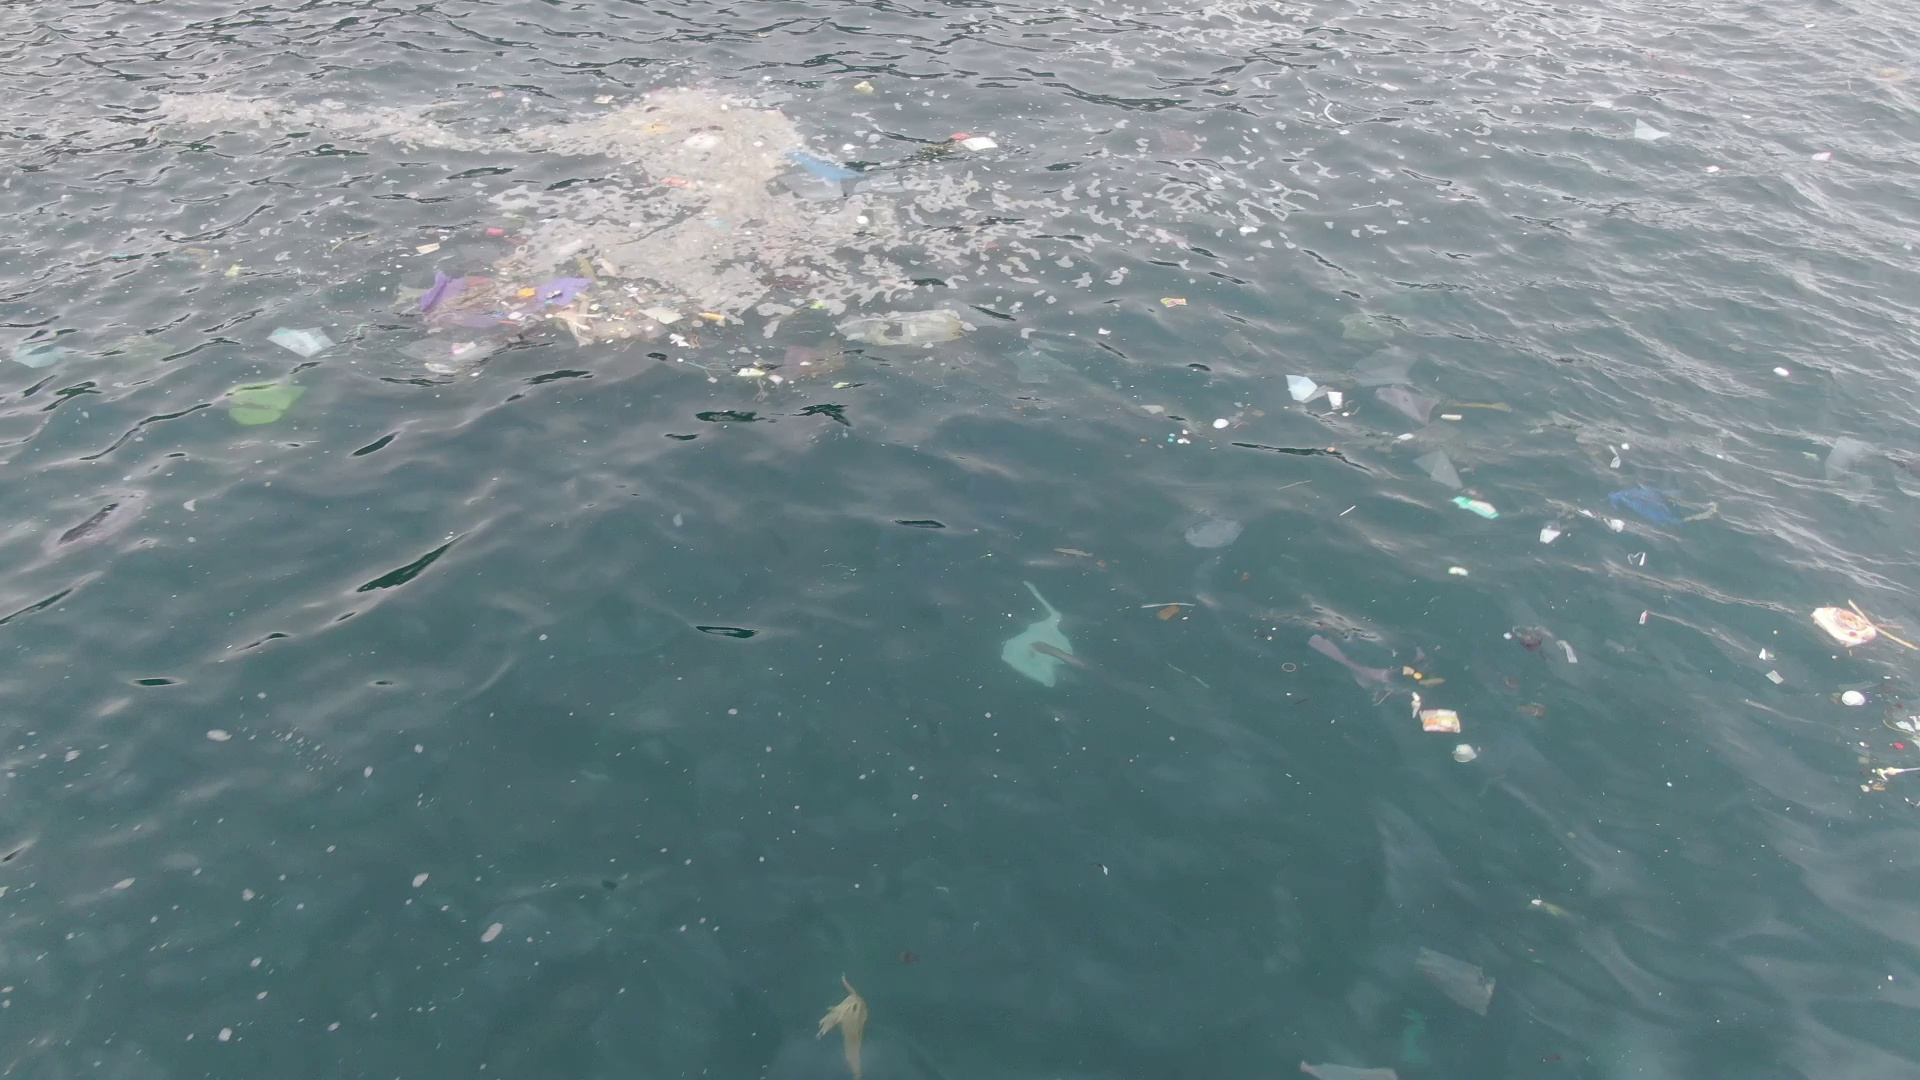garbage: (409, 222, 725, 376), (1342, 310, 1440, 427), (1000, 582, 1083, 692), (1840, 679, 1920, 793), (1308, 633, 1447, 687), (832, 309, 975, 345), (1816, 603, 1920, 651), (822, 975, 869, 1080), (218, 376, 303, 427), (738, 345, 847, 384), (781, 152, 865, 196), (1607, 485, 1688, 527), (1505, 625, 1578, 666), (1286, 375, 1346, 413), (268, 324, 336, 357), (1407, 695, 1462, 735), (1414, 450, 1465, 488), (659, 174, 724, 194), (948, 131, 998, 153), (1453, 495, 1495, 520), (1142, 600, 1193, 620), (1634, 117, 1671, 142), (684, 131, 725, 152), (638, 117, 675, 138), (1452, 740, 1478, 765), (852, 76, 877, 95), (1539, 526, 1563, 545), (1162, 295, 1188, 309), (1764, 671, 1785, 684), (1447, 566, 1469, 578), (1760, 647, 1776, 663), (1440, 411, 1462, 422), (1772, 367, 1792, 378), (1629, 553, 1646, 566), (1638, 609, 1648, 626)
